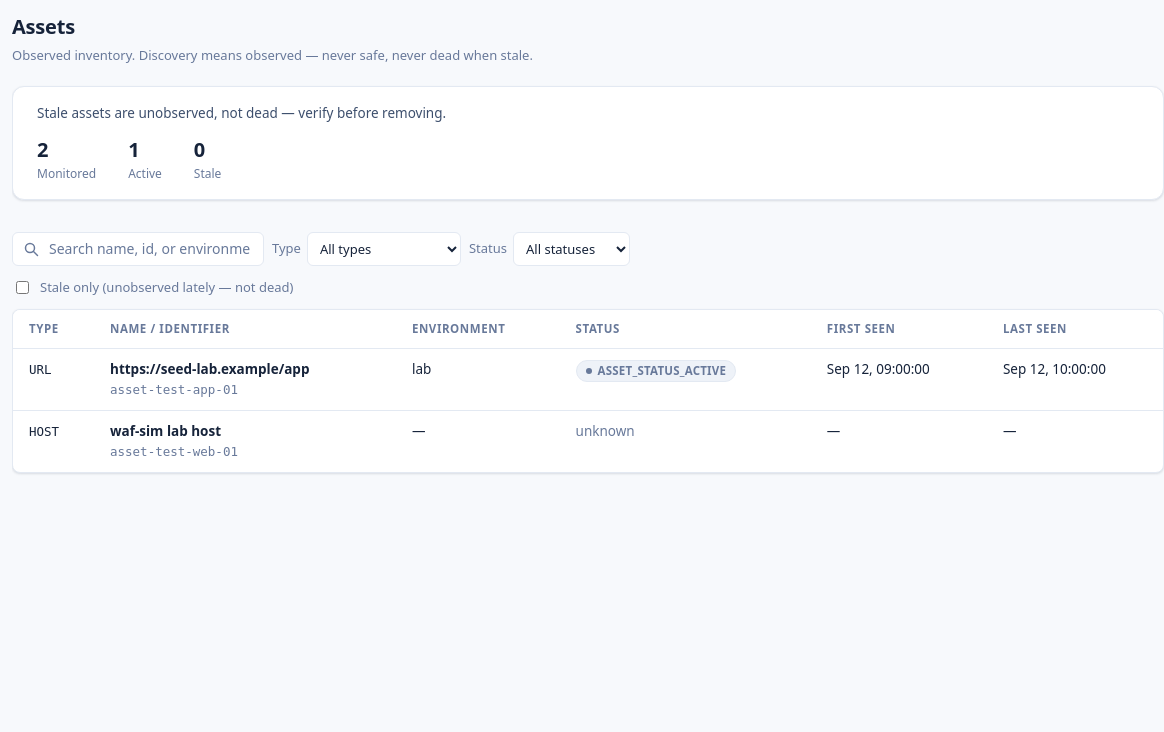
Scenario: Assets › stale-only toggle and empty states are honest
Check: the text "https://seed-lab.example/app" is shown, box top-left (110, 360), bottom-right (310, 378)
Note: Neither fixture asset is STALE → honest empty, not hidden rows.
Click the text "Stale only (unobserved lately — not dead)". click: (153,288)
box: top-left (12, 278), bottom-right (293, 297)
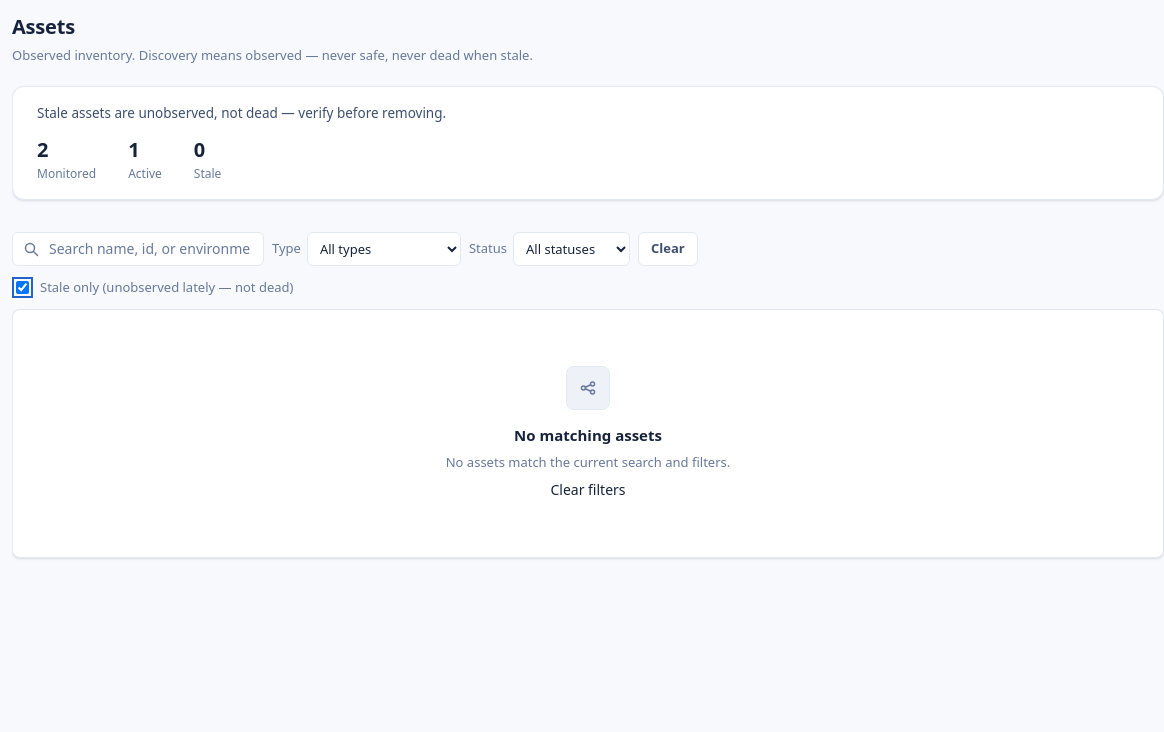
Check: the heading "No matching assets" is shown, box top-left (514, 424), bottom-right (662, 447)
